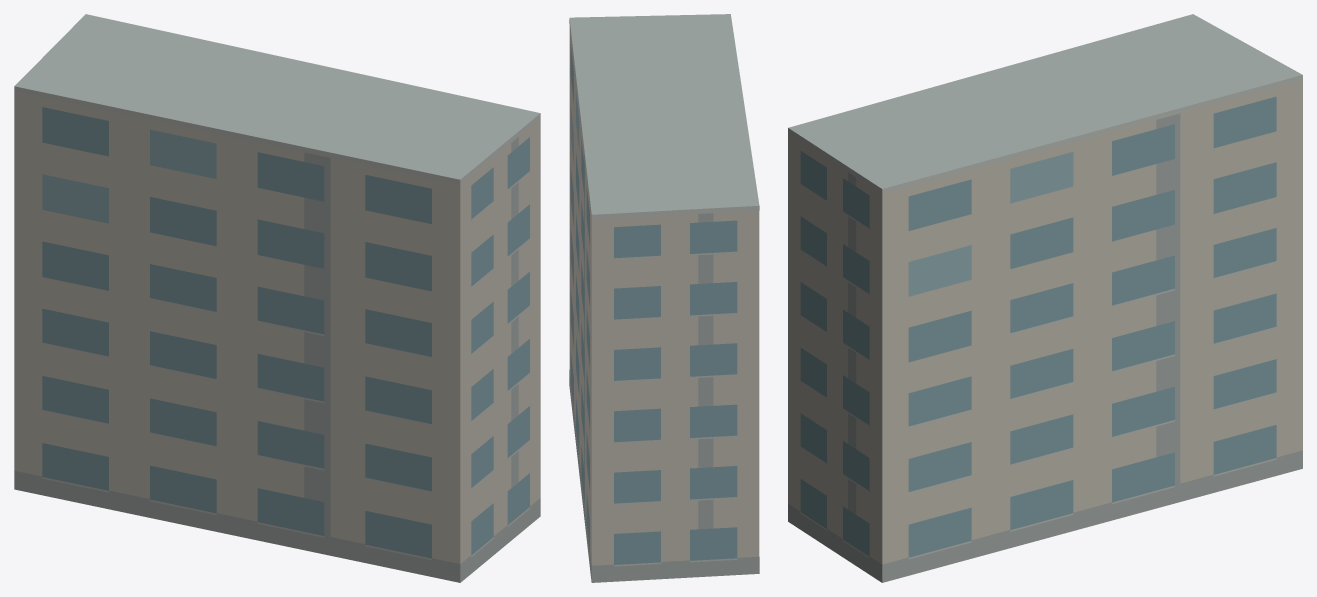
File: residential-ae5d0d91-cfb7-471e-8b10-d2892060c987.glb
The picture shows the model from 3 angles, left to right: view 1: azimuth 30°, elevation 25°; view 2: azimuth 150°, elevation 25°; view 3: azimuth 270°, elevation 25°; orthographic projection. The views are drawn at different scales.
Parts seen in each view (by area): view 1: residential-ae5d0d91-cfb7-471e-8b10-d2892060c987.tmp; view 2: residential-ae5d0d91-cfb7-471e-8b10-d2892060c987.tmp; view 3: residential-ae5d0d91-cfb7-471e-8b10-d2892060c987.tmp.
Part boxes in pixels (bbox=[...]): residential-ae5d0d91-cfb7-471e-8b10-d2892060c987.tmp: bbox=[14, 14, 540, 582]; residential-ae5d0d91-cfb7-471e-8b10-d2892060c987.tmp: bbox=[569, 14, 759, 582]; residential-ae5d0d91-cfb7-471e-8b10-d2892060c987.tmp: bbox=[788, 14, 1302, 582].
Bounding box in the file's own units: 17.45 × 18.3 × 21.68.
